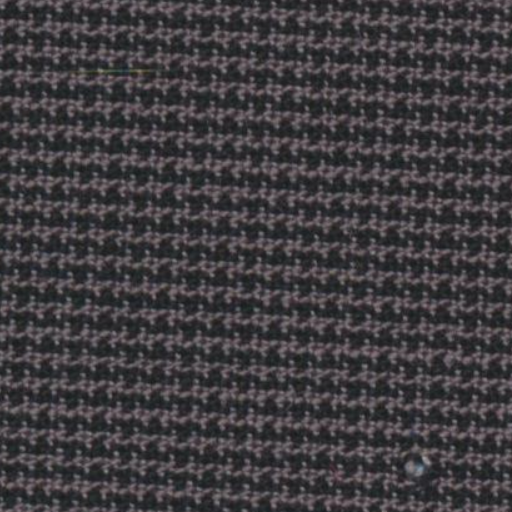PoDong: (372, 422, 452, 482)
